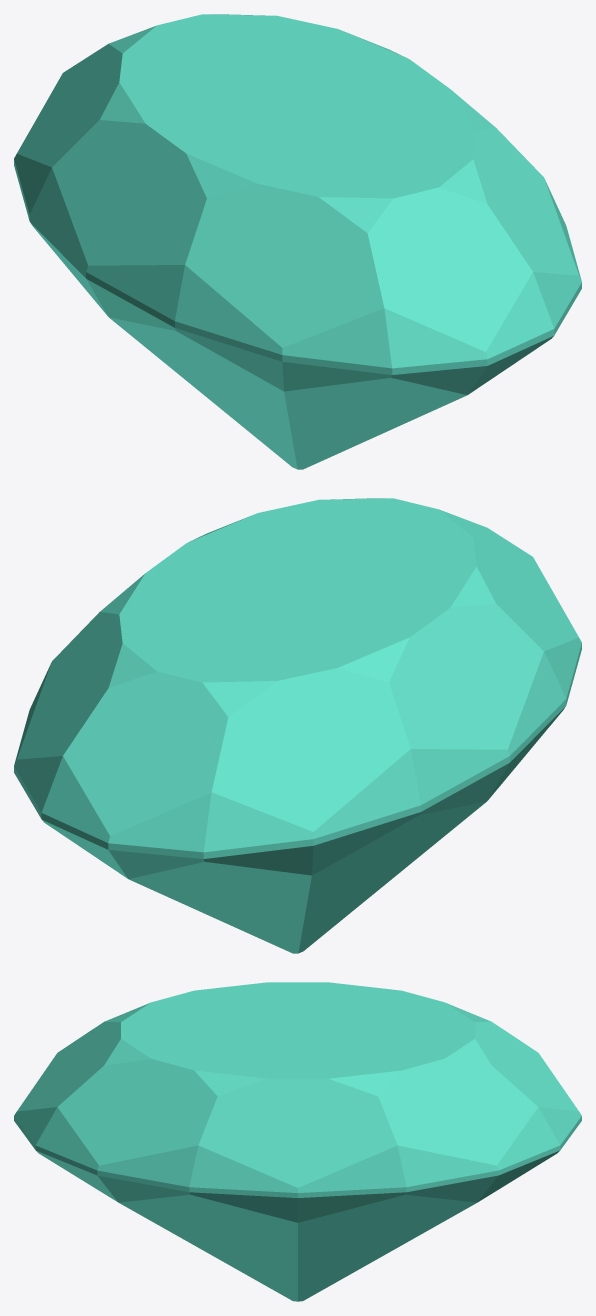
Rendered from oval.glb.
3 views of the same model, one above another, from view 1: azimuth 30°, elevation 25°; view 2: azimuth 150°, elevation 25°; view 3: azimuth 270°, elevation 25° (orthographic). The views are drawn at different scales.
Visible parts, largest first — view 1: Prism_oval; view 2: Prism_oval; view 3: Prism_oval.
Boxes of the visible parts, x1,y1,x2,y2 form: Prism_oval: (14, 14, 581, 469); Prism_oval: (14, 498, 581, 953); Prism_oval: (14, 982, 581, 1301).
Size of the model in its own units: 1.59 by 1.29 by 2.47.
